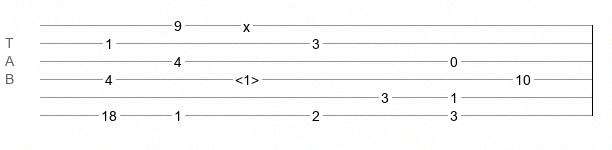0: (450, 54, 458, 64)
1: (105, 36, 113, 46), (174, 108, 182, 118), (450, 90, 458, 100)
10: (515, 72, 531, 82)
18: (101, 108, 117, 118)
2: (312, 108, 320, 118)
3: (312, 36, 320, 46), (381, 90, 389, 100), (450, 108, 458, 118)
4: (105, 72, 113, 82), (174, 54, 182, 64)
9: (174, 18, 182, 28)
harmonic: (235, 72, 259, 82)
x: (243, 19, 250, 27)
